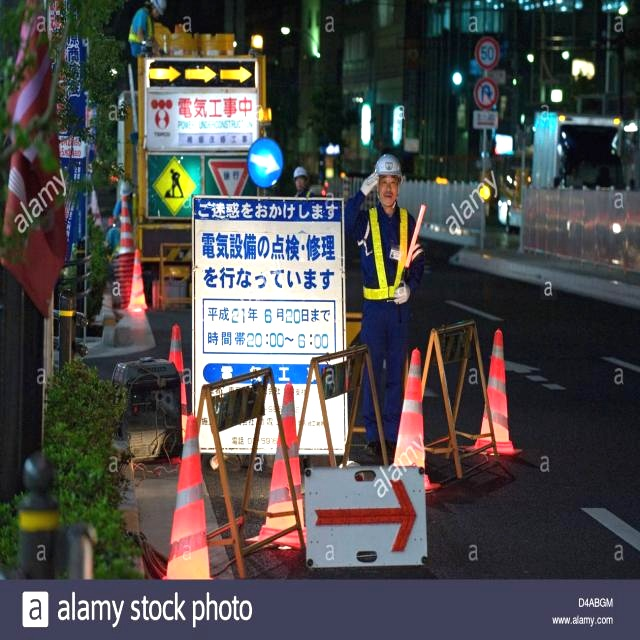Con_Casco: (376, 153, 402, 207)
Con_Chaleco: (360, 209, 412, 302)
